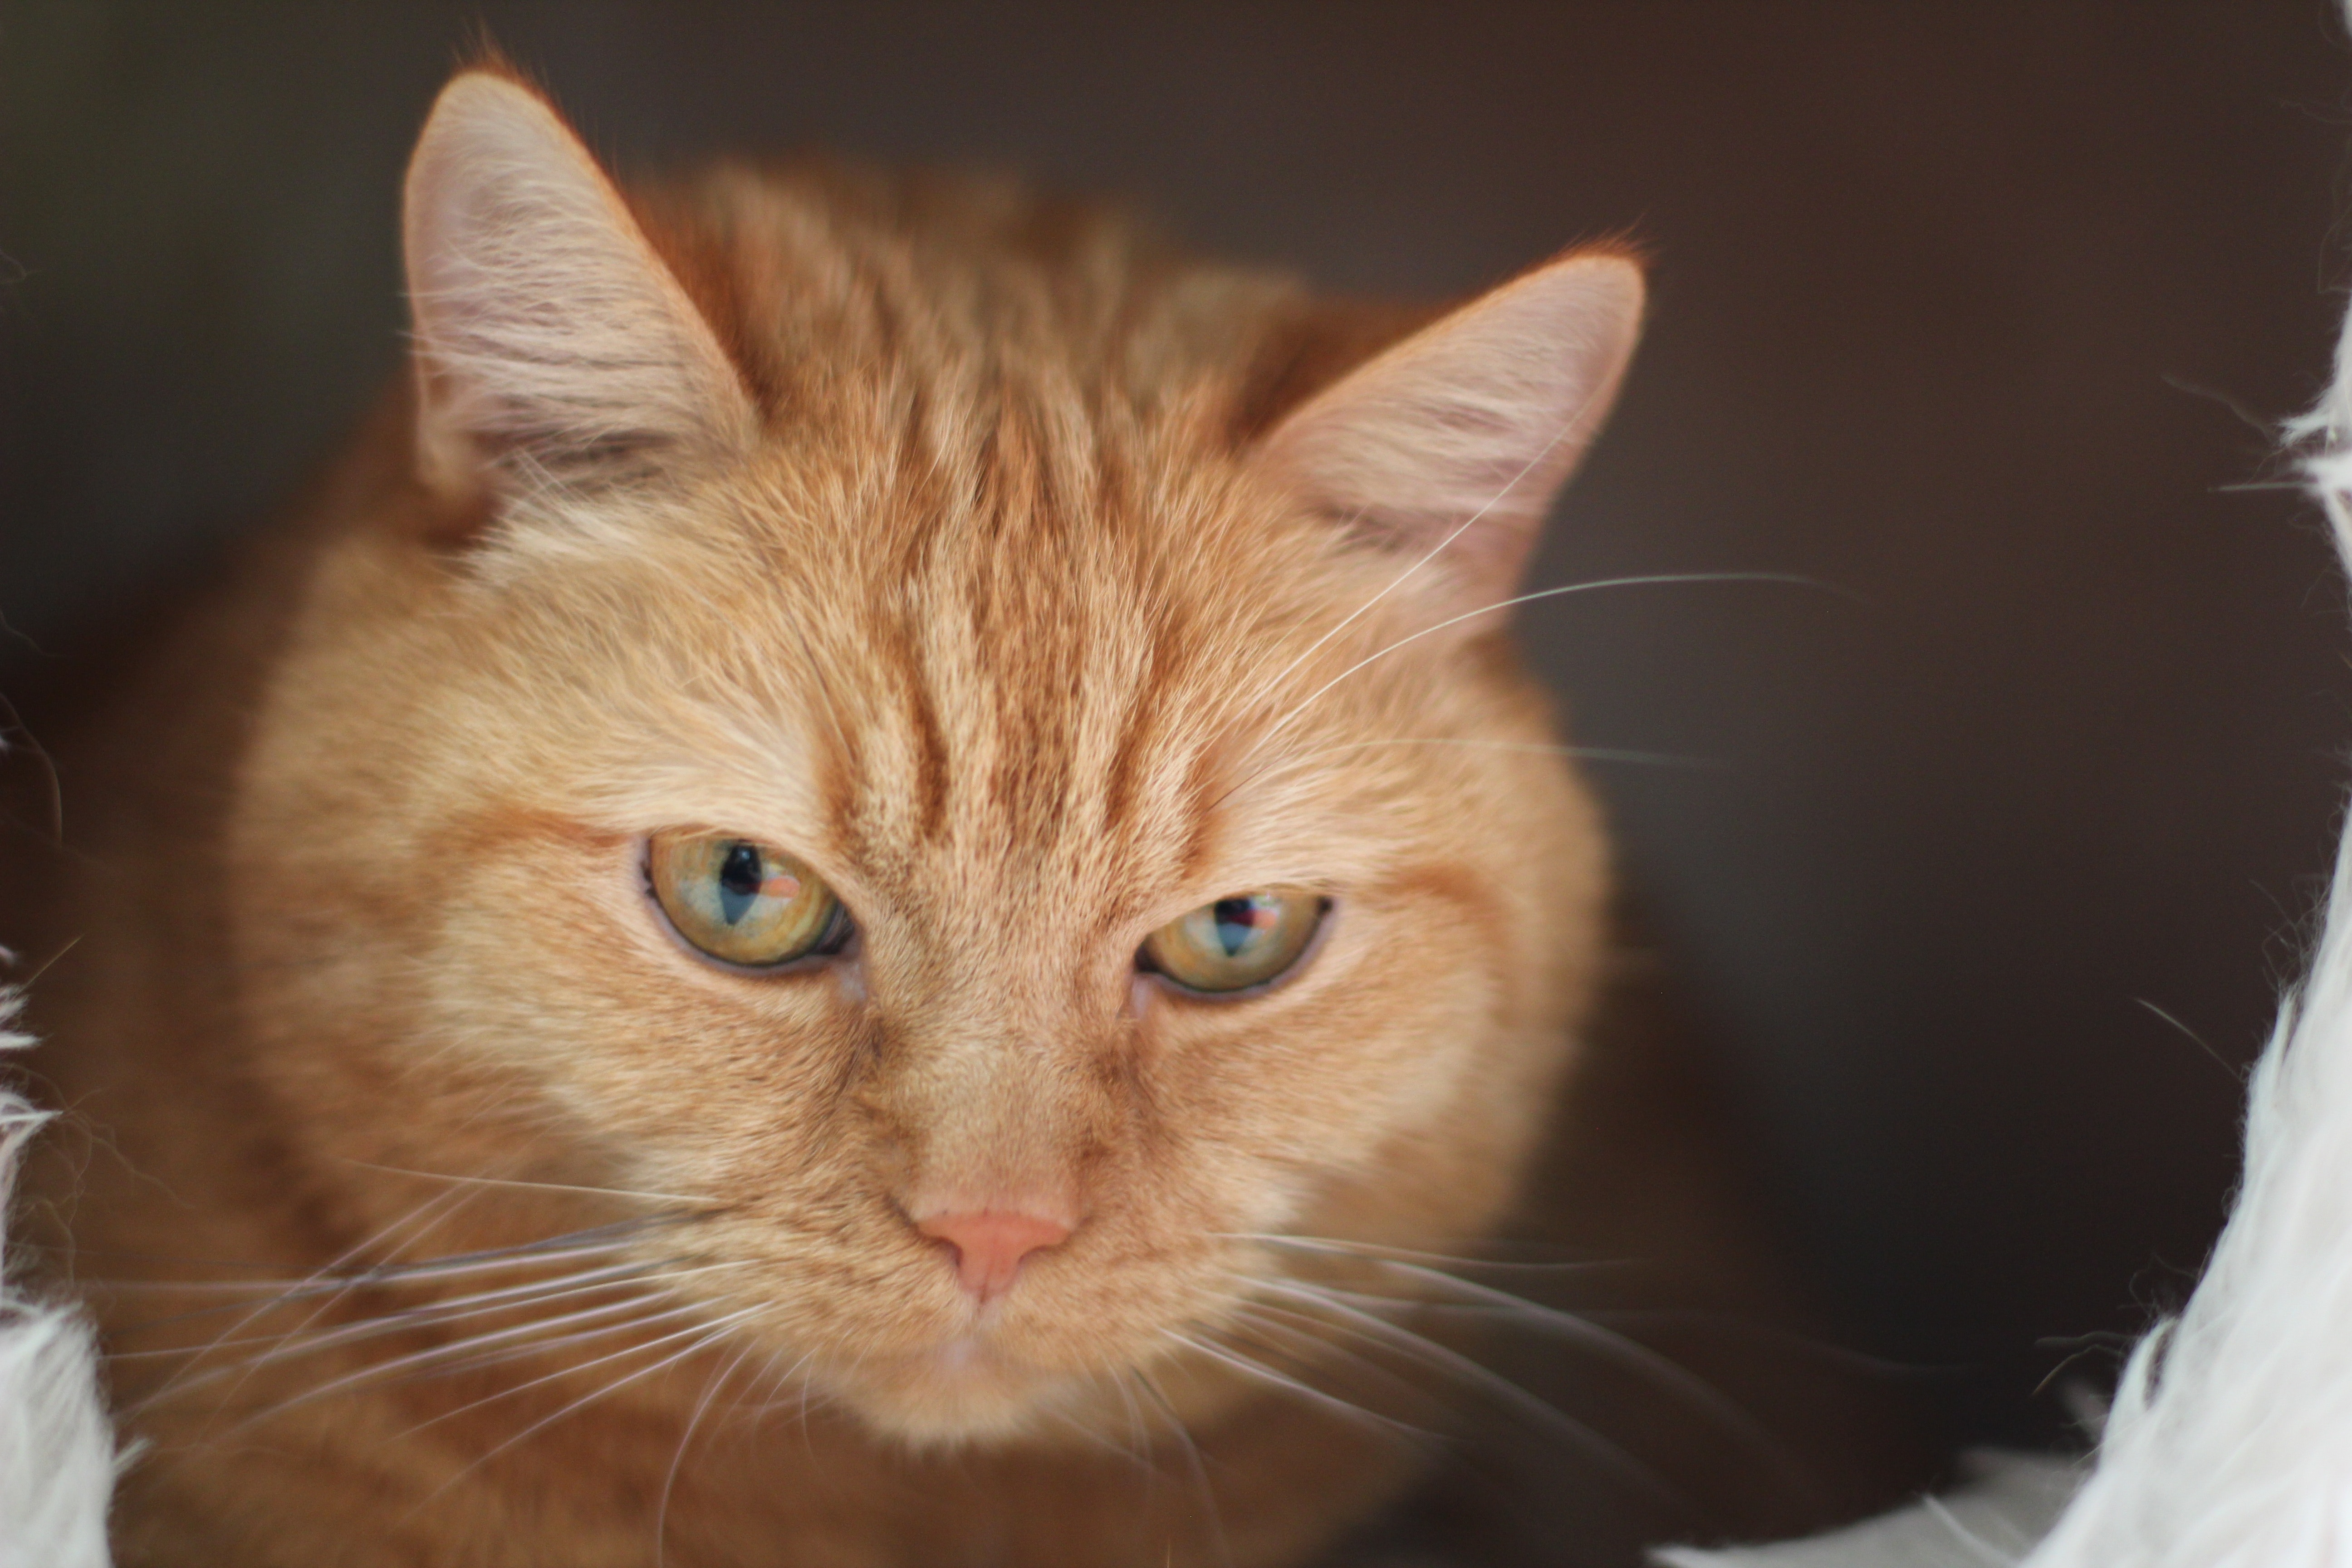cat-face: (231, 58, 1899, 1543)
